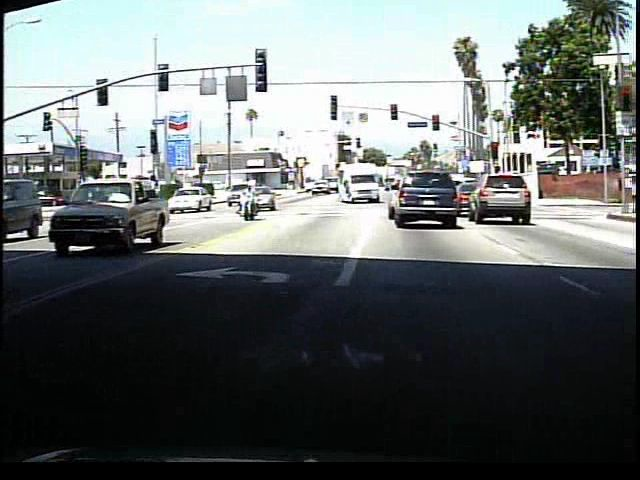person: (238, 183, 260, 223)
